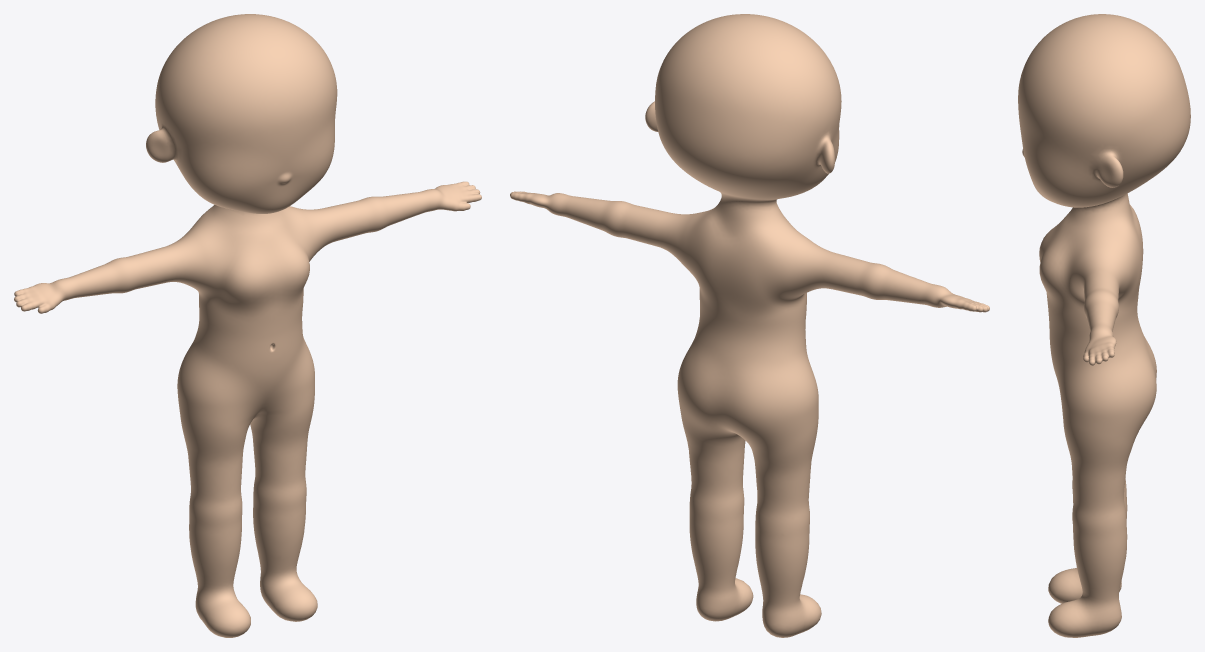
File: female_tall.fbx
The picture shows the model from 3 angles, left to right: view 1: azimuth 30°, elevation 25°; view 2: azimuth 150°, elevation 25°; view 3: azimuth 270°, elevation 25°; orthographic projection. The views are drawn at different scales.
Visible parts, largest first — view 1: Body.001; view 2: Body.001; view 3: Body.001.
Part boxes in pixels (x1,y1,x2,y2): Body.001: [14, 14, 481, 637]; Body.001: [510, 14, 989, 637]; Body.001: [1018, 14, 1190, 637].
Bounding box in the file's own units: 135 × 164 × 43.34.
